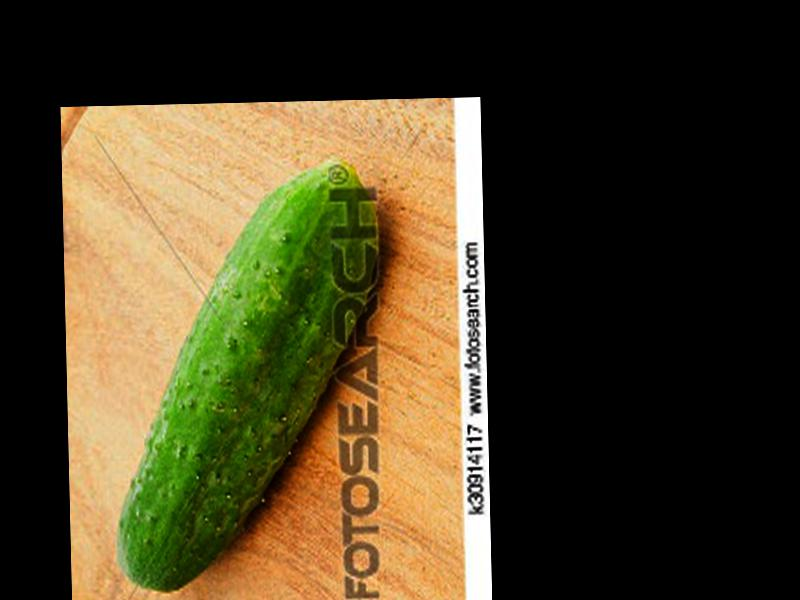Cucumber: (108, 158, 390, 593)
